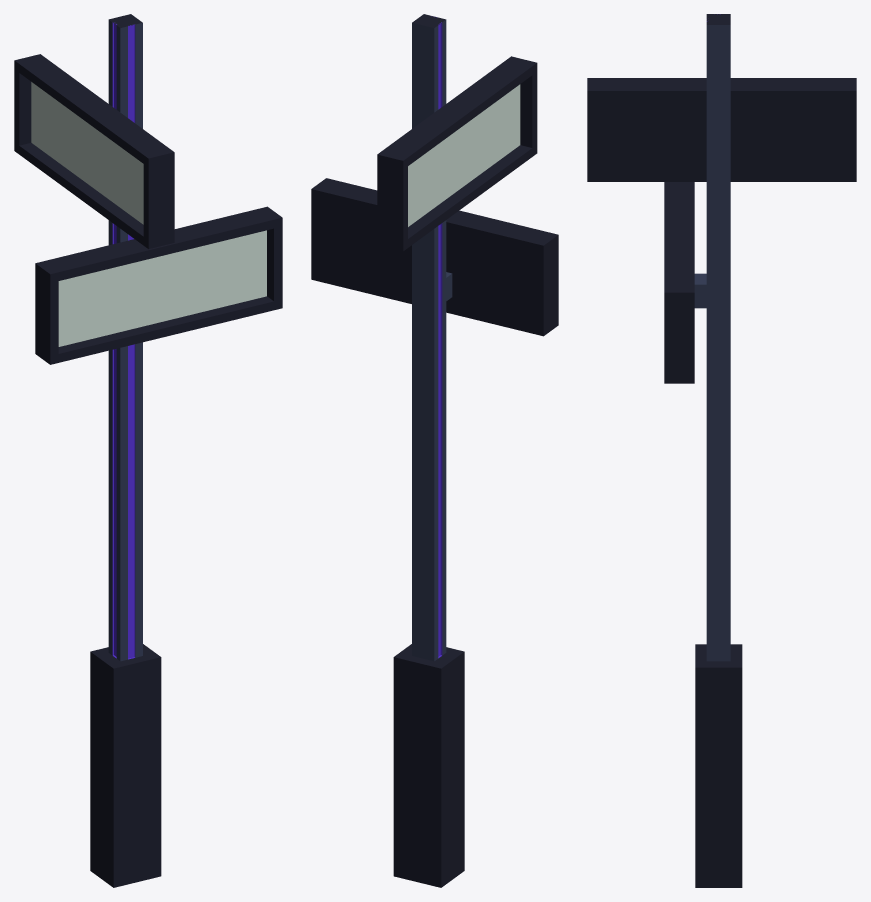
The model's file is Building_StreetSign_Corner.fbx.
3 renders of one model, left to right at view 1: azimuth 30°, elevation 25°; view 2: azimuth 150°, elevation 25°; view 3: azimuth 270°, elevation 25°, orthographic.
Visible parts, largest first — view 1: Cube.334; view 2: Cube.334; view 3: Cube.334.
Boxes of the visible parts, x1,y1,x2,y2 form: Cube.334: (14,14,282,887); Cube.334: (311,14,558,887); Cube.334: (587,14,856,887).
Size of the model in its own units: 78.86 by 277 by 78.86.
